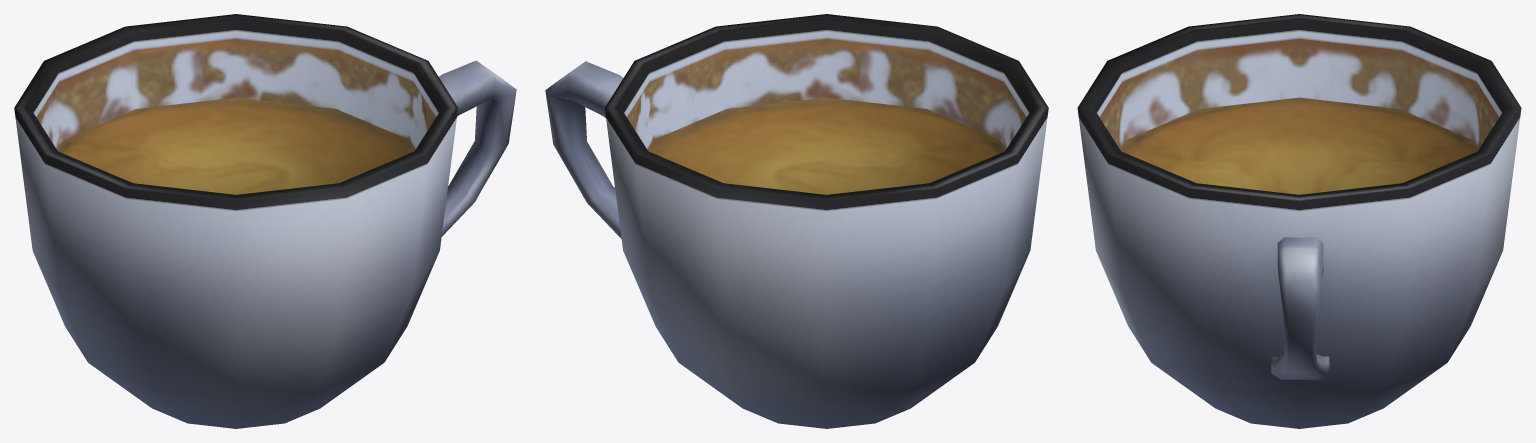
Rendered from ChengShiDiTu_kafeibei_01.FBX.
3 views of the same model, side by side, from view 1: azimuth 30°, elevation 25°; view 2: azimuth 150°, elevation 25°; view 3: azimuth 270°, elevation 25° (orthographic).
Visible parts, largest first — view 1: Object001; view 2: Object001; view 3: Object001.
Part boxes in pixels (x1=…): Object001: x1=14, y1=14, x2=516, y2=428; Object001: x1=545, y1=14, x2=1048, y2=428; Object001: x1=1077, y1=14, x2=1521, y2=428.
Size of the model in its own units: 79.77 by 45.83 by 65.85.
